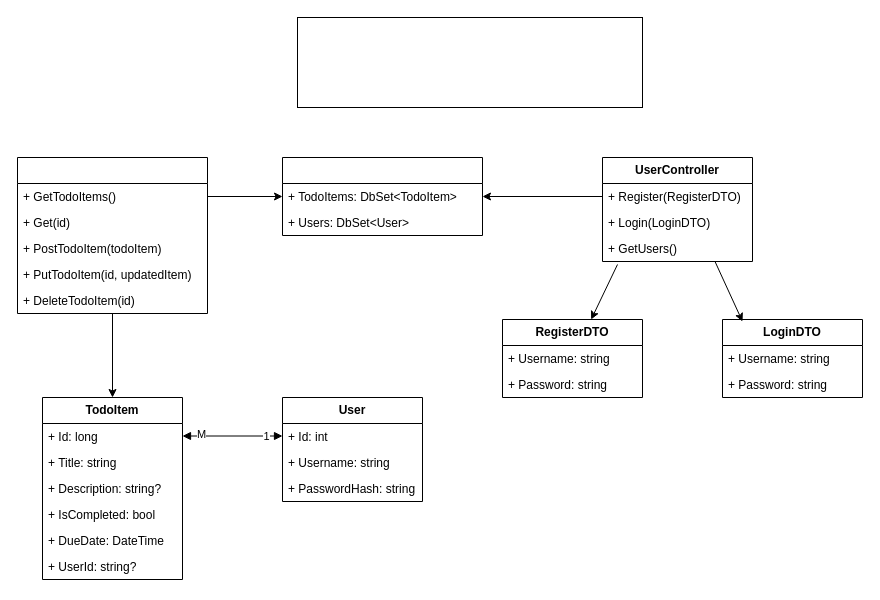
Image size: 880x600. Some labels were removed from this diagram. The box of each missing label's shape, as (x1, y1, x2, y2) in pixels:
SmartTask Full-Stack Task Management App UML Design: (296, 16, 642, 108)
TodoDbContext: (282, 156, 482, 236)
TodoItemsController: (16, 156, 208, 314)
